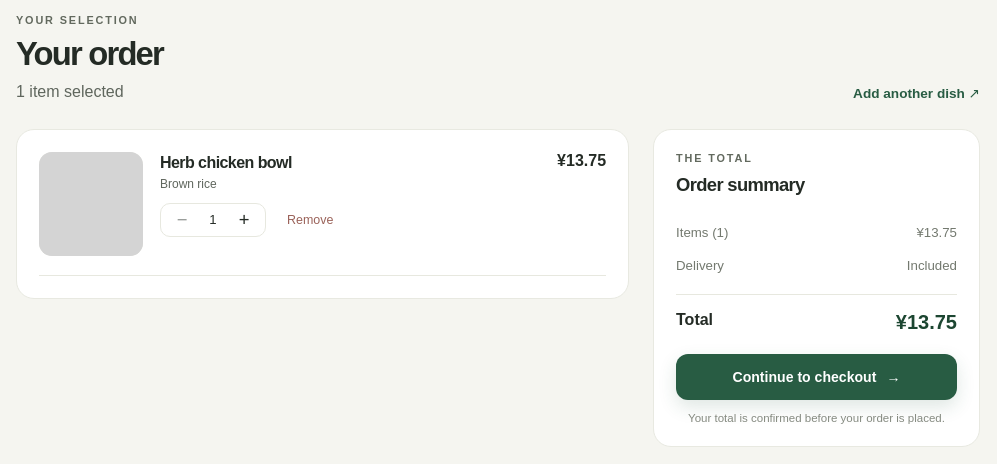
Scenario: cart page › updates quantities and keeps line and order totals in integer fen
Expected: the text "¥13.75" is shown 3 times, [557, 152, 606, 169]; [916, 225, 957, 240]; [896, 311, 957, 334]
Click the button named "Increase Herb chicken bowl quantity".
click(244, 220)  # box [231, 207, 257, 233]
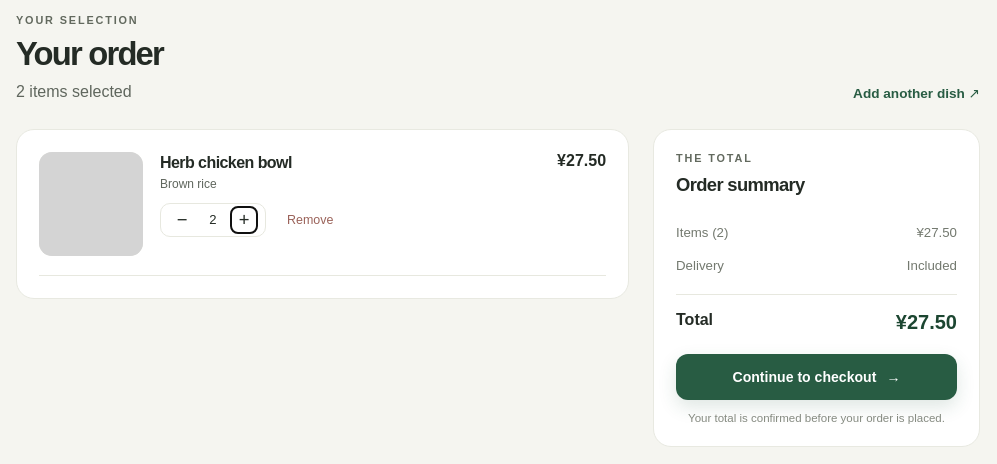
Result: the 3rd text "¥27.50" is shown at [896, 311, 957, 334]
Result: the text "2 items selected" is shown at [16, 83, 132, 100]
Click the button named "Decrease Herb chicken bowl quantity".
click(182, 220)  # box [169, 207, 195, 233]
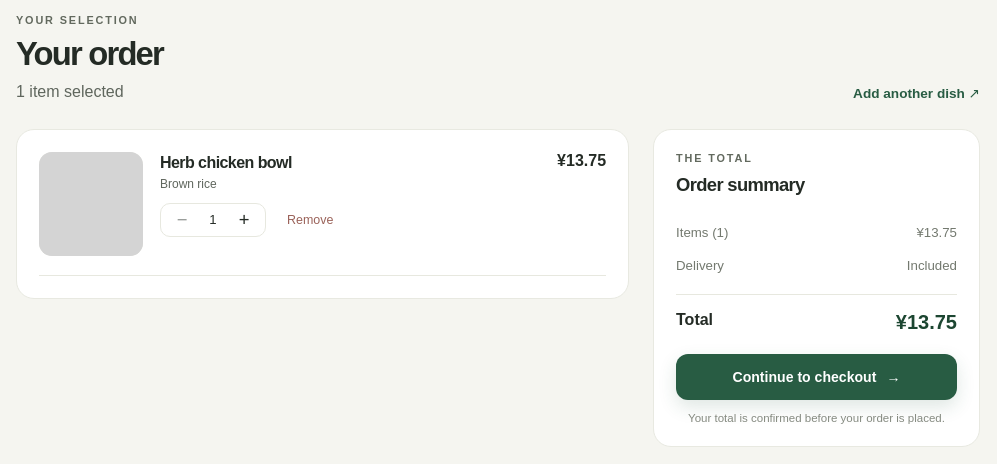
Result: the 3rd text "¥13.75" is shown at [896, 311, 957, 334]
